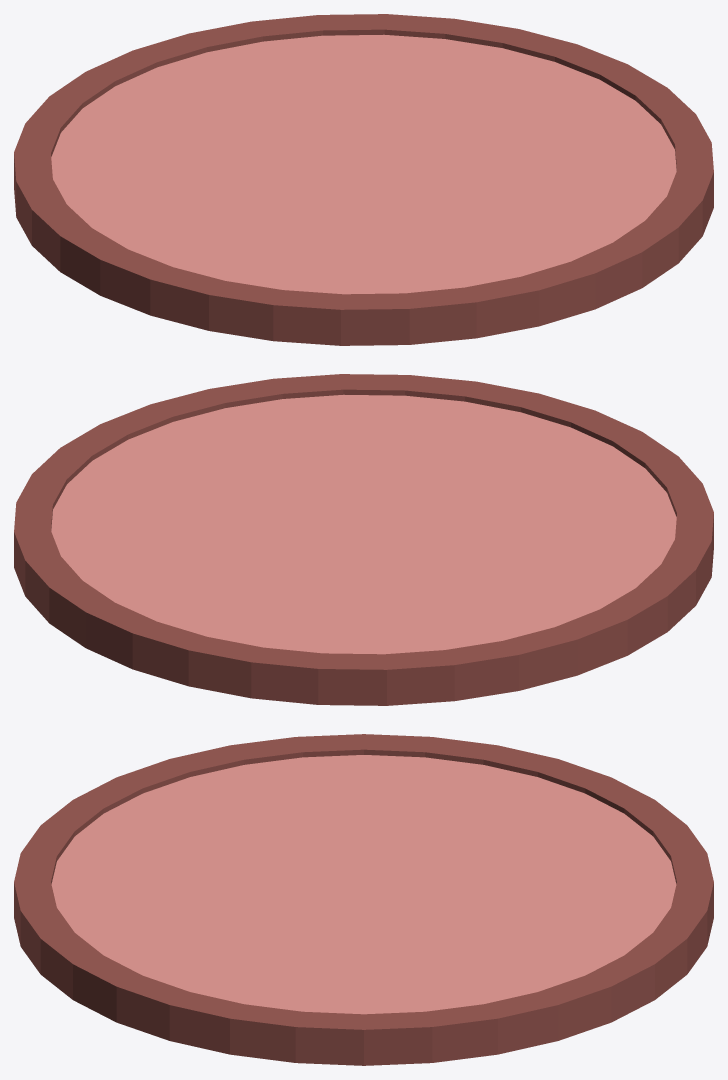
File: hAM bitch.fbx
3 views of the same model, one above another, from view 1: azimuth 30°, elevation 25°; view 2: azimuth 150°, elevation 25°; view 3: azimuth 270°, elevation 25° (orthographic).
Parts seen in each view (by area): view 1: HAM; view 2: HAM; view 3: HAM.
Boxes of the visible parts, box(x1,y1,x2,y2) form: HAM: box(14, 14, 713, 345); HAM: box(14, 374, 713, 705); HAM: box(14, 734, 713, 1065).
Bounding box in the file's own units: 200 × 11.35 × 200.
